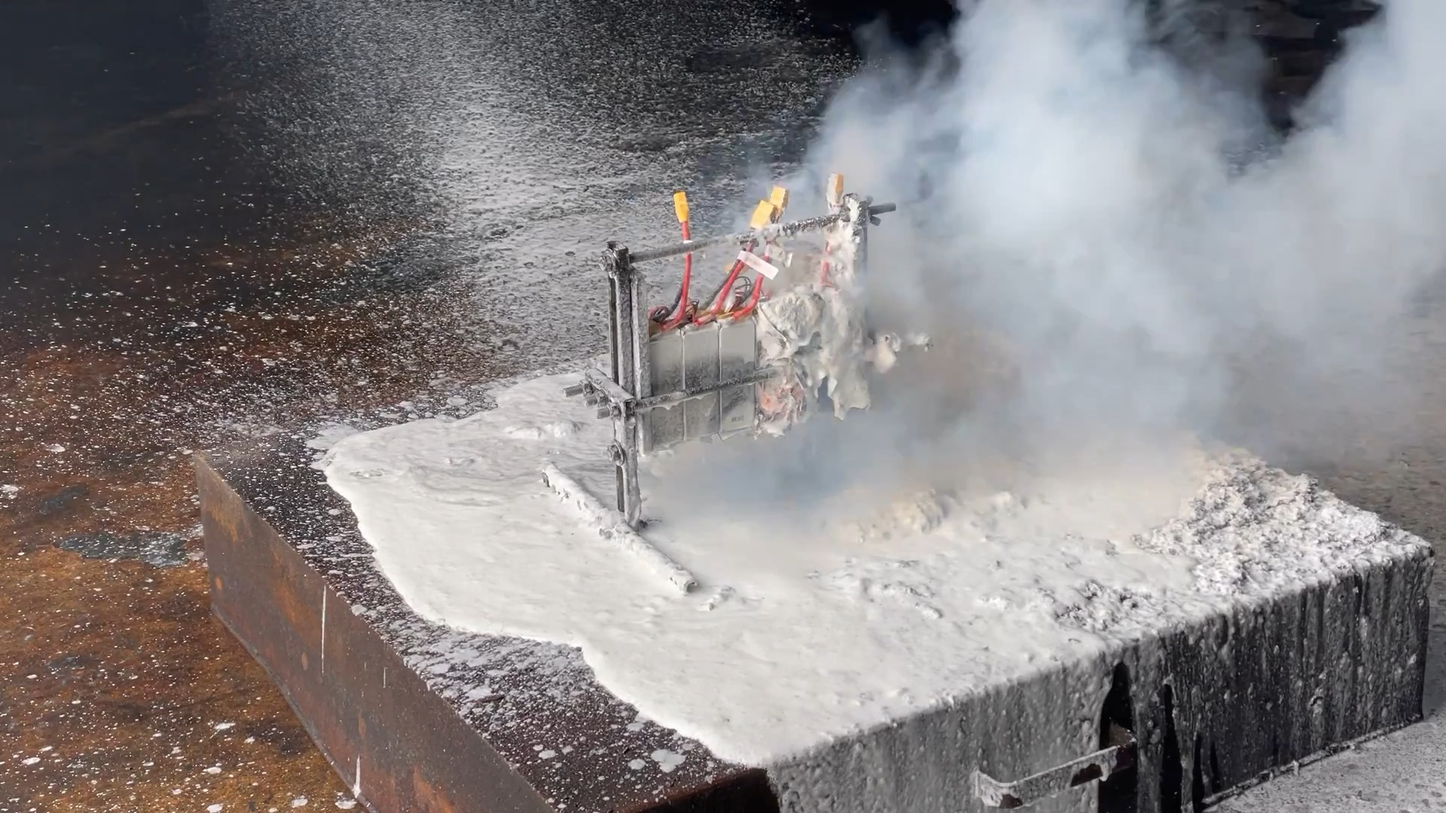smoke: (771, 0, 1446, 514)
